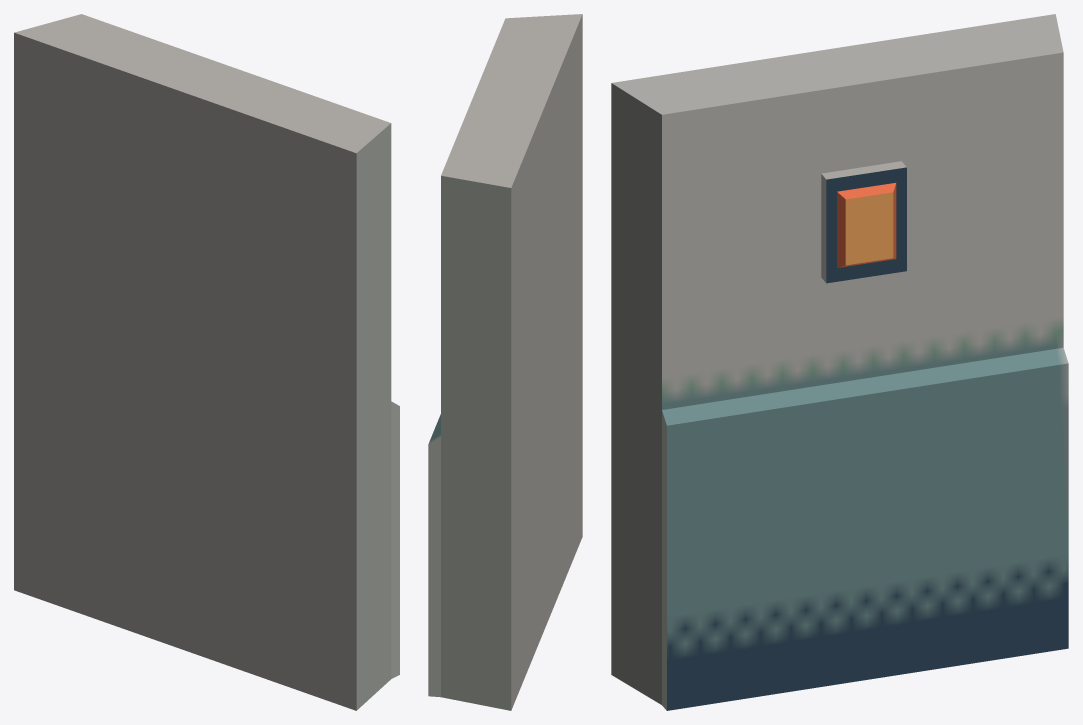
File: lamb_wall.fbx
The picture shows the model from 3 angles, left to right: view 1: azimuth 30°, elevation 25°; view 2: azimuth 150°, elevation 25°; view 3: azimuth 270°, elevation 25°; orthographic projection. The views are drawn at different scales.
Parts seen in each view (by area): view 1: lamp_wall; view 2: lamp_wall; view 3: lamp_wall.
Boxes of the visible parts, left/top/right/bottom form: lamp_wall: left=14, top=14, right=399, bottom=710; lamp_wall: left=428, top=14, right=582, bottom=710; lamp_wall: left=611, top=14, right=1068, bottom=710.
Size of the model in its own units: 60.79 by 160 by 112.
Materials: 1 (1 with a texture image).
